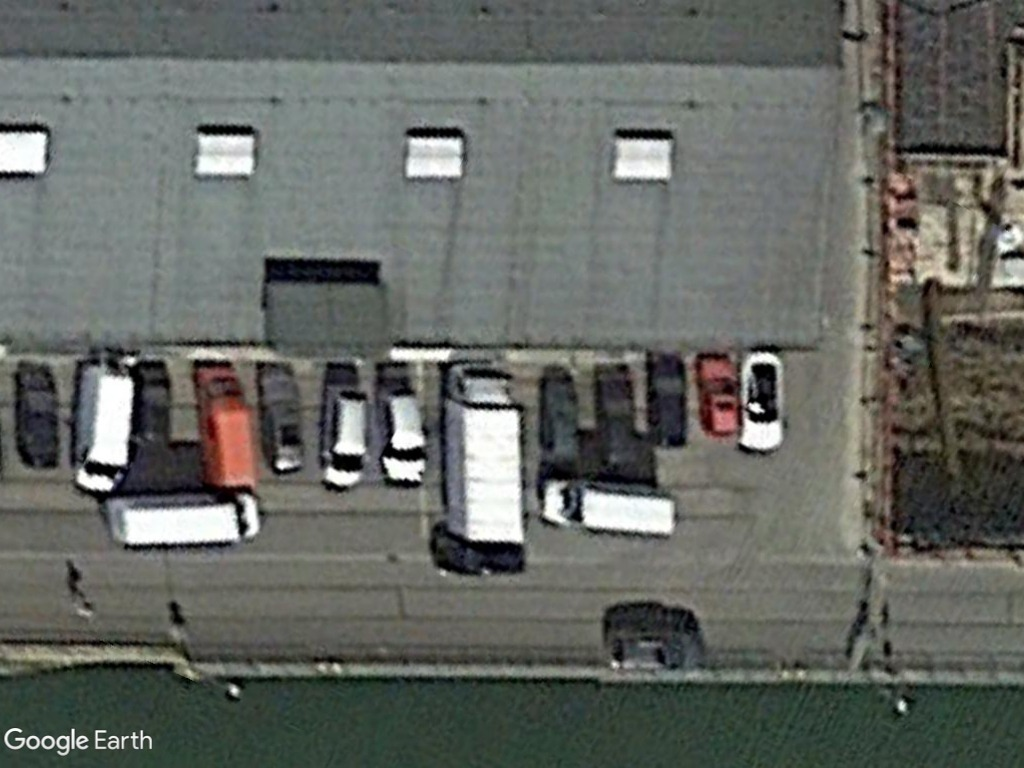car: (369, 380, 434, 490), (315, 378, 373, 494)
truck: (437, 359, 530, 553)
van: (101, 486, 269, 553), (64, 357, 136, 502), (188, 361, 266, 493), (538, 473, 687, 541)
